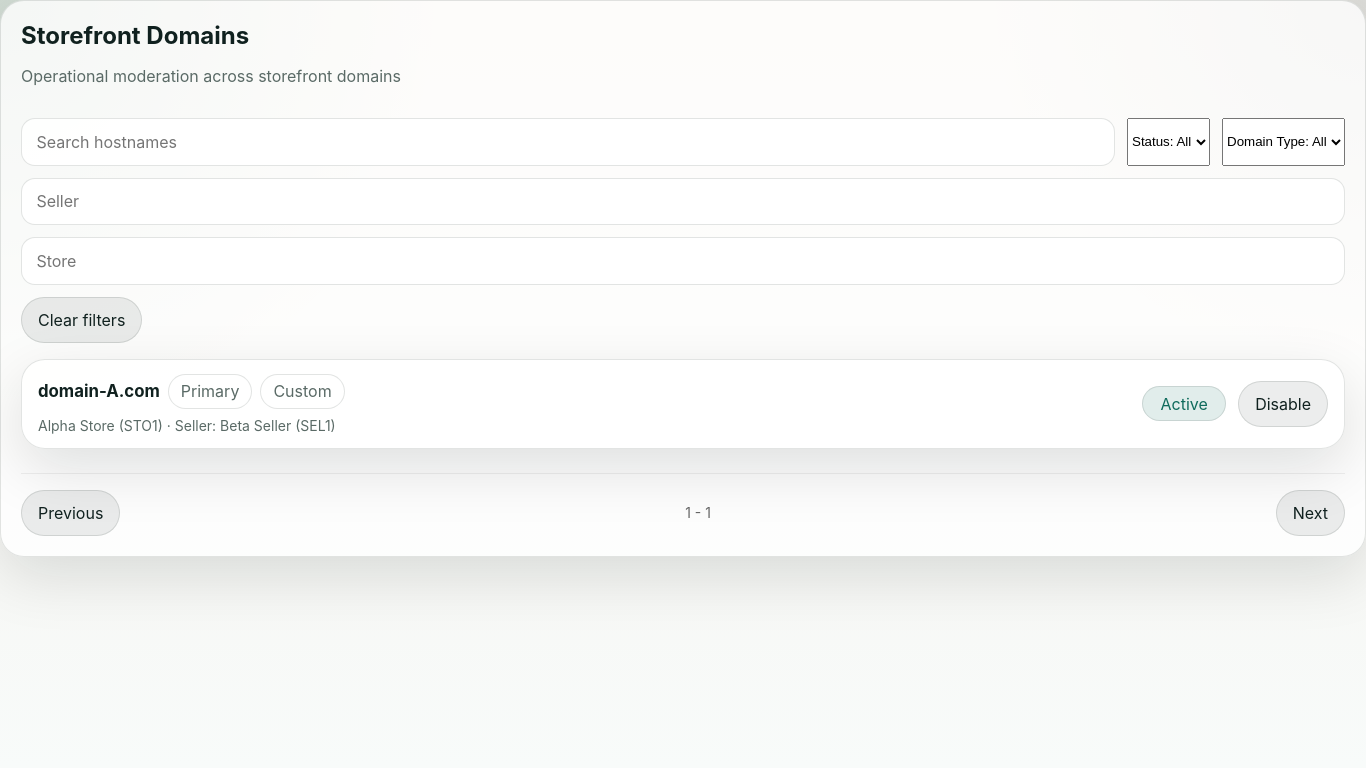
Test case: DomainModerationPanel › prevents stale action from reloading or overwriting when view changes before POST completes
Check: the text "domain-A.com" is shown, box x1=38 y1=381 x2=160 y2=401
// Click Disable on domain A
Click the button with test id "disable-btn-dom-A": (1283, 404) x1=1238 y1=381 x2=1328 y2=427
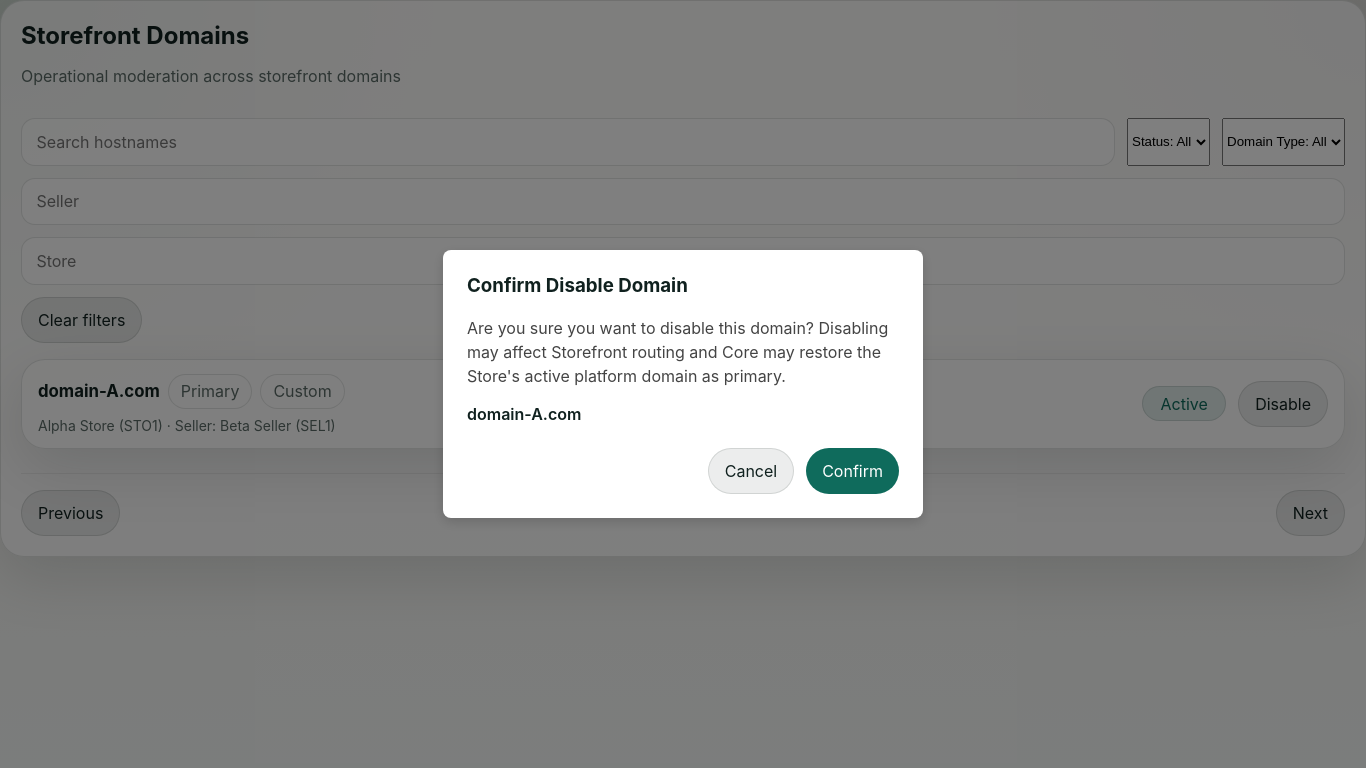
Click the button with test id "confirm-submit": (853, 471) x1=806 y1=448 x2=899 y2=494
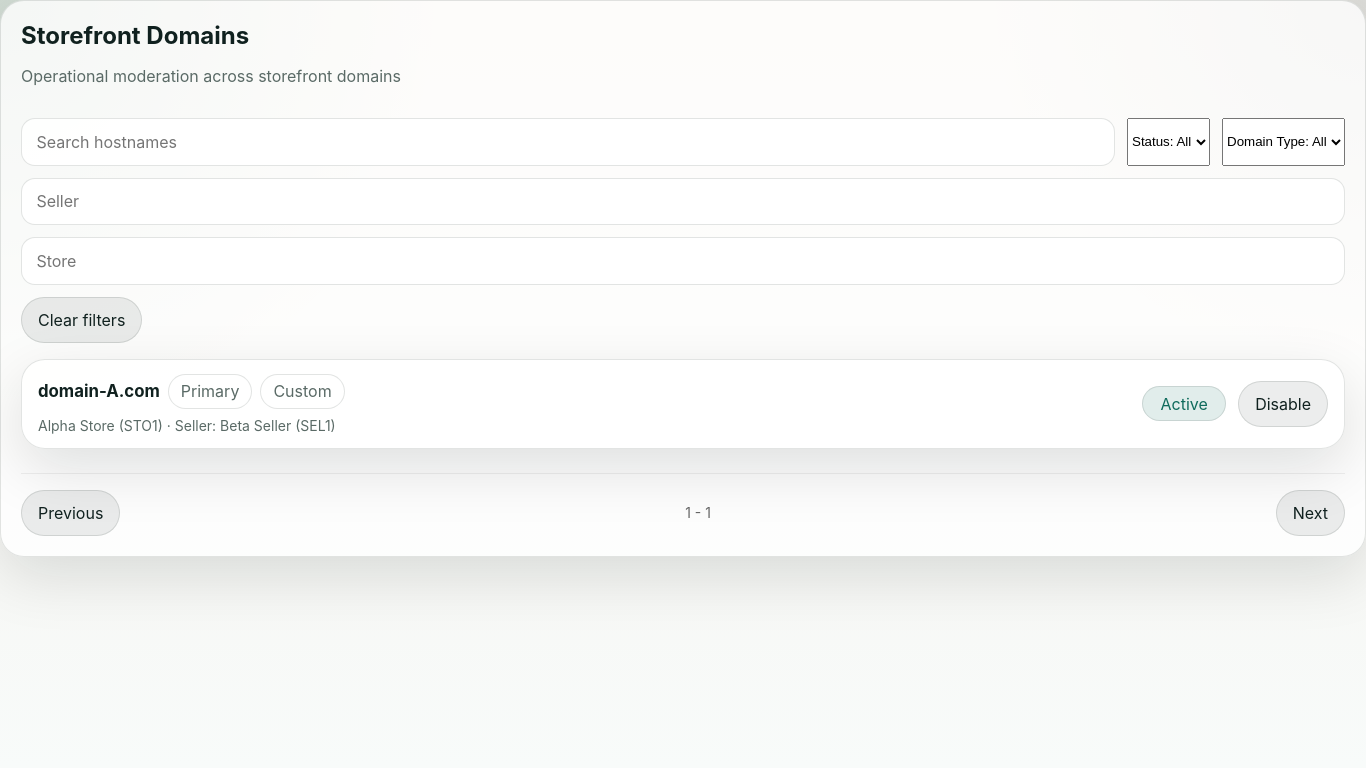
// Switch to View B by changing status filter to "disabled"
Select "Disabled" in the dropdown named "Status": (1168, 142) x1=1127 y1=118 x2=1210 y2=166
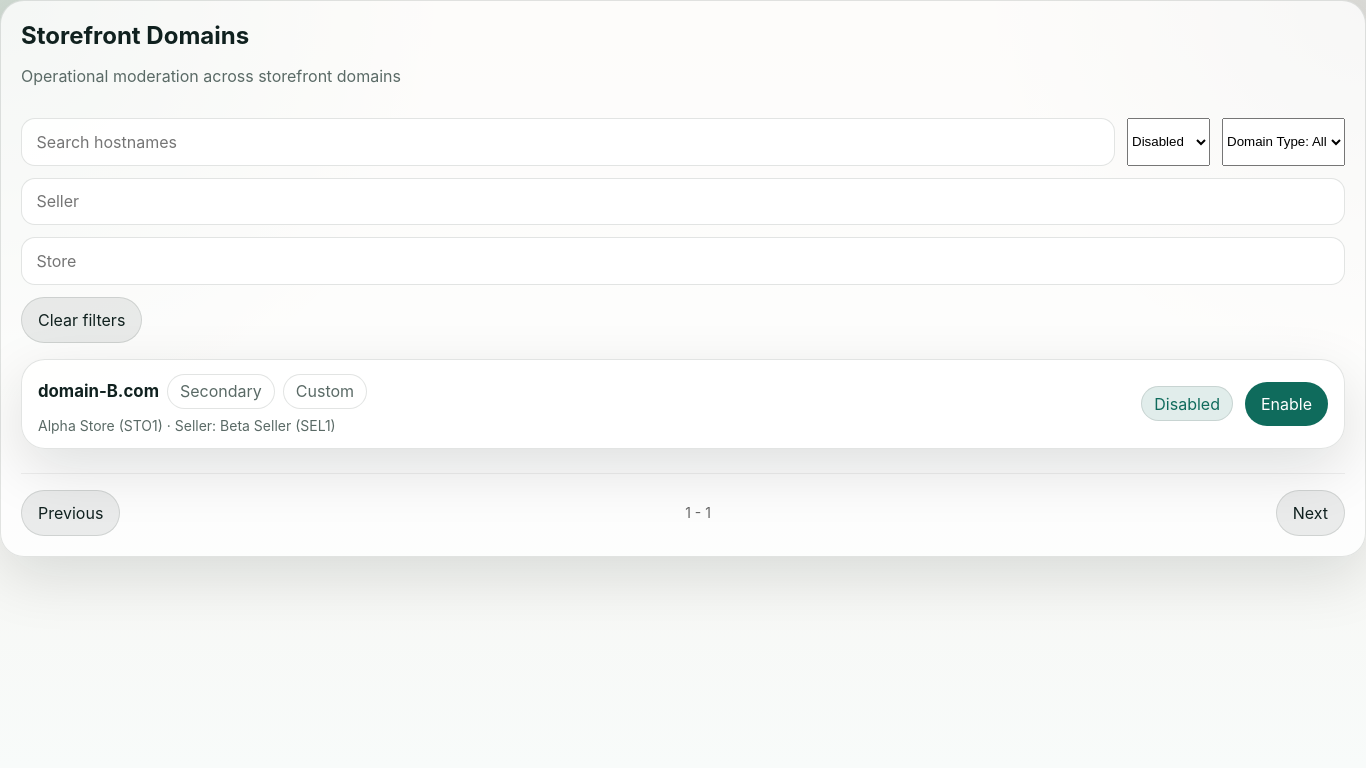
Check: the text "domain-B.com" is shown, box x1=38 y1=381 x2=159 y2=401
Check: the text "domain-A.com" is gone
